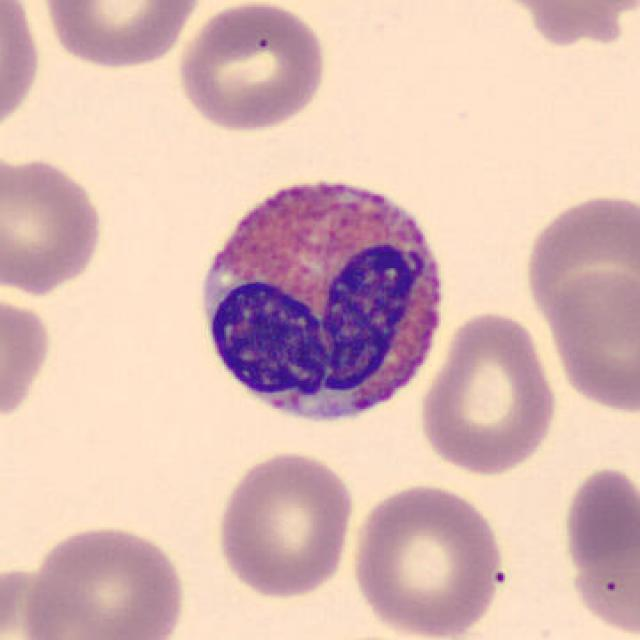Eosinophil: (181, 159, 459, 439)
RBC: (346, 480, 508, 638), (414, 308, 562, 478), (212, 448, 358, 601), (172, 0, 330, 134), (22, 520, 188, 640), (519, 187, 638, 340), (0, 152, 107, 300), (542, 266, 640, 416), (37, 0, 206, 72), (558, 460, 638, 612), (565, 534, 640, 640), (0, 287, 55, 428), (478, 0, 635, 41), (0, 0, 44, 141), (0, 564, 78, 640)
